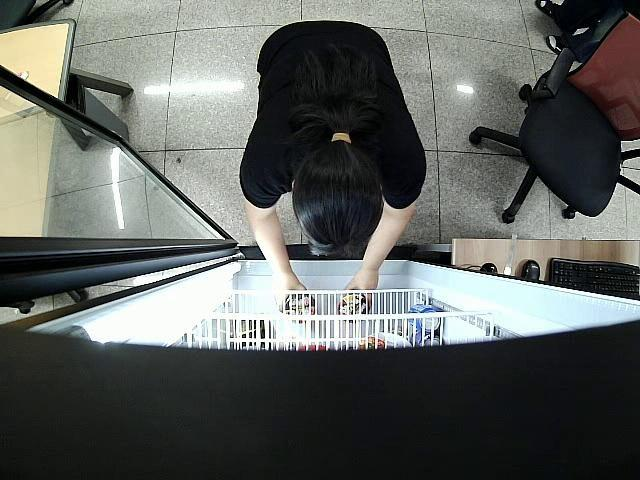08_buldak_S: (281, 290, 317, 323), (340, 290, 369, 326)
